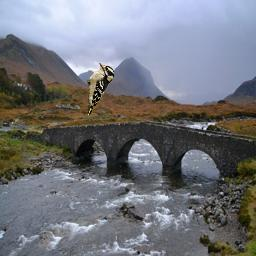Woodpecker: (86, 63, 114, 115)
